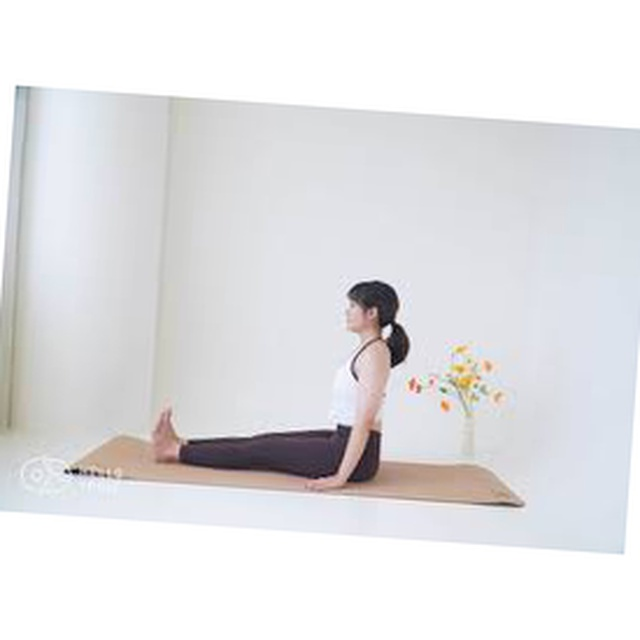Staff_Pose: (152, 280, 412, 492)
